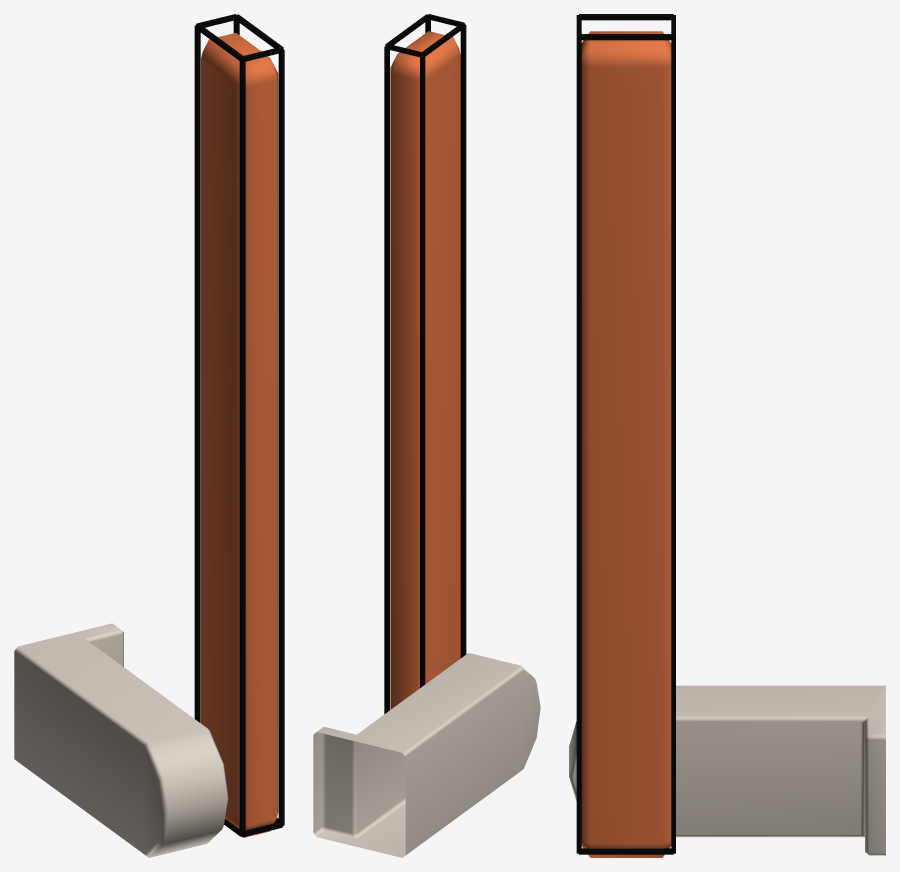
The model's file is BaseBarrier.fbx.
3 views of the same model, side by side, from view 1: azimuth 30°, elevation 25°; view 2: azimuth 150°, elevation 25°; view 3: azimuth 270°, elevation 25° (orthographic). The views are drawn at different scales.
Visible parts, largest first — view 1: Barrier, BaseBarrier, Cube__11_, Cube__8_, Cube__10_; view 2: Barrier, BaseBarrier, Cube__11_, Cube__9_, Cube__10_; view 3: Barrier, BaseBarrier, Cube__8_, Cube__9_, Cube, Cube__2_, Cube__1_.
Boxes of the visible parts, <box> form: Barrier: <box>201,33,278,837</box>; BaseBarrier: <box>14,623,228,857</box>; Cube__11_: <box>239,59,245,835</box>; Cube__8_: <box>278,49,284,825</box>; Cube__10_: <box>194,26,200,722</box>; Barrier: <box>390,31,460,709</box>; BaseBarrier: <box>313,653,540,857</box>; Cube__11_: <box>460,24,466,658</box>; Cube__9_: <box>384,46,389,713</box>; Cube__10_: <box>420,55,425,687</box>; Barrier: <box>581,31,671,857</box>; BaseBarrier: <box>569,685,885,855</box>; Cube__8_: <box>576,37,581,852</box>; Cube__9_: <box>671,37,675,852</box>; Cube: <box>579,34,673,40</box>; Cube__2_: <box>579,848,673,854</box>; Cube__1_: <box>579,14,673,20</box>.
Size of the model in its own units: 0.1582 by 0.9715 by 0.3351.
